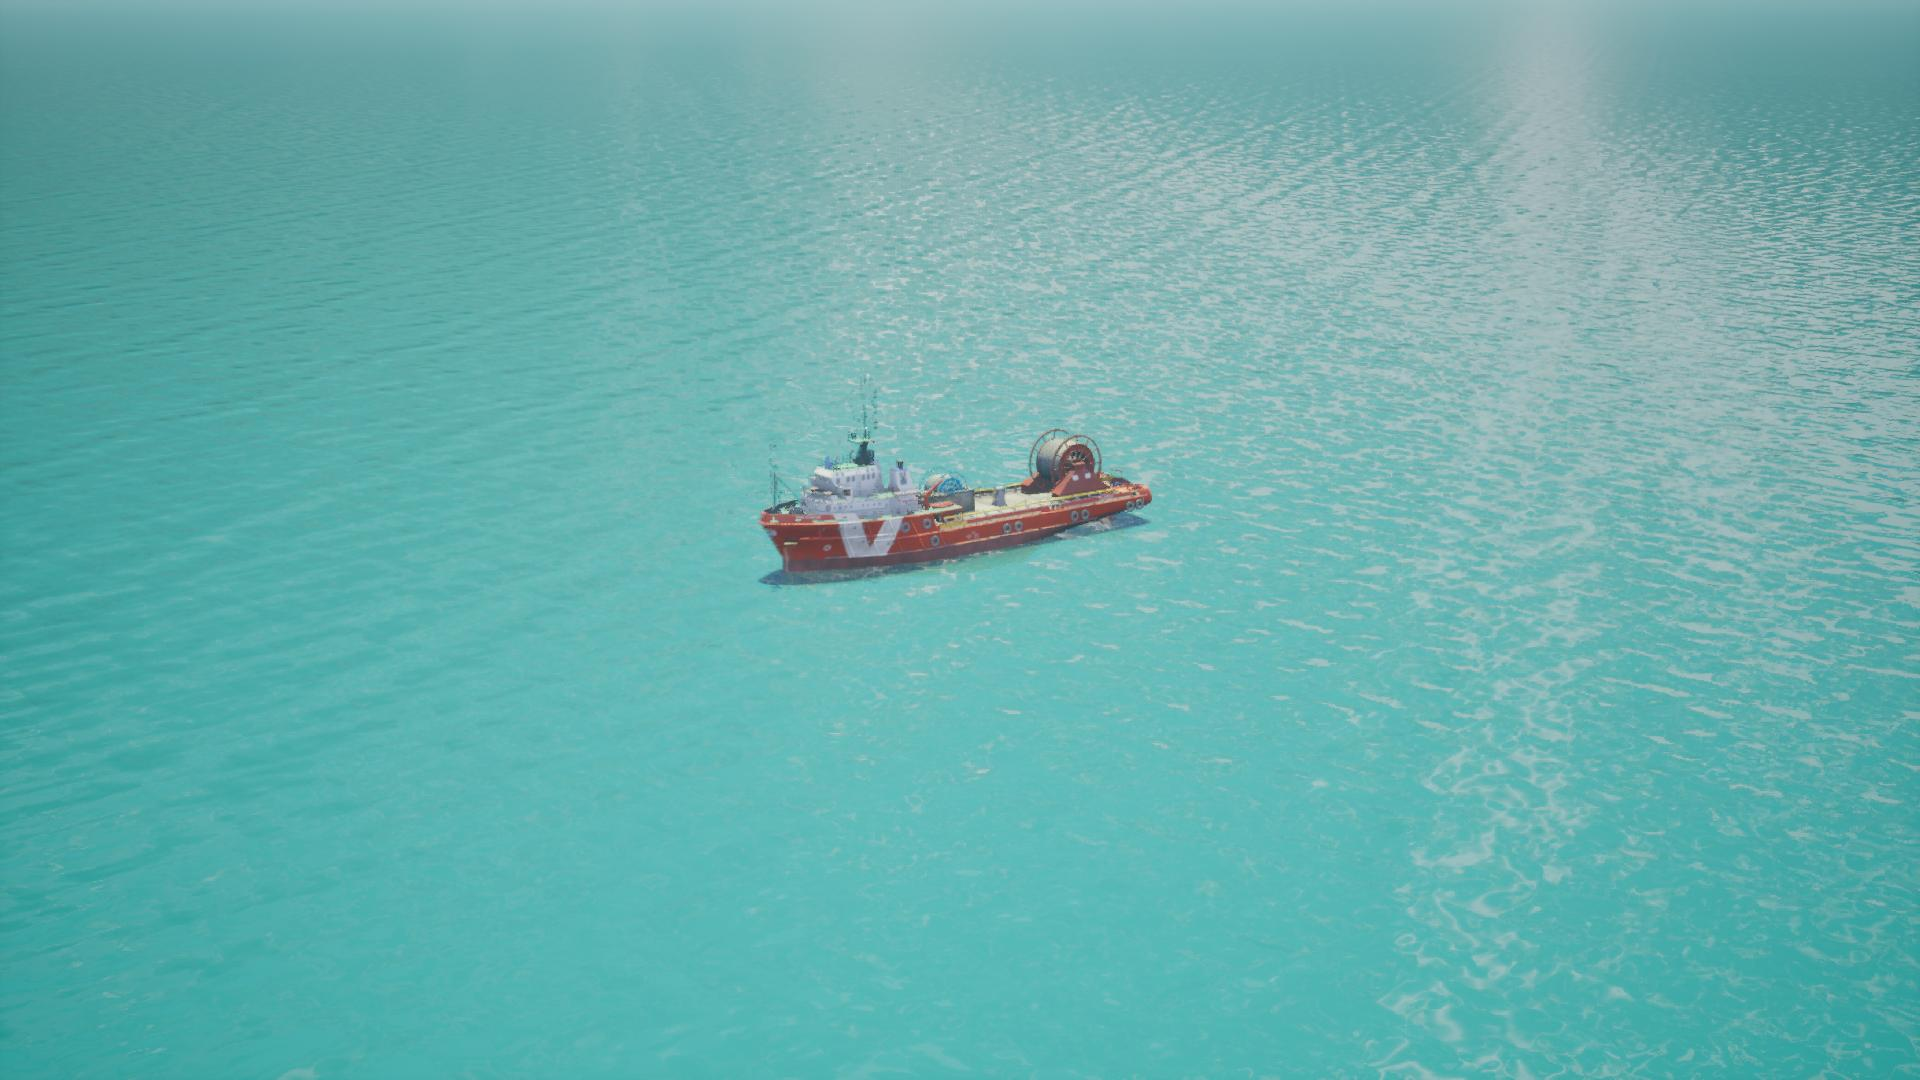Tug Boat: (758, 435, 1151, 582)
